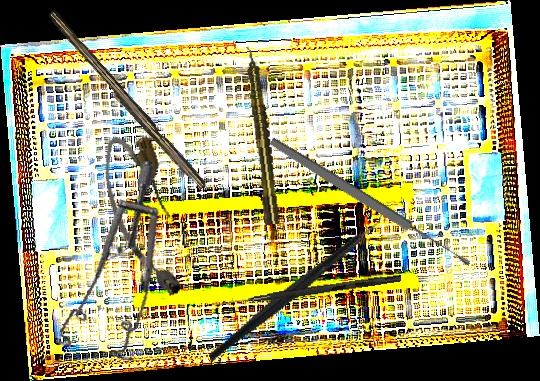Cannula: (93, 128, 193, 306)
Chopper: (180, 202, 413, 363)
Handpiece: (242, 45, 281, 226)
Hook Surgical: (214, 272, 402, 311)
Scalpel Handle: (42, 9, 211, 194)
Speculum: (26, 159, 191, 375)
Surgical Spoon: (268, 135, 473, 270)
